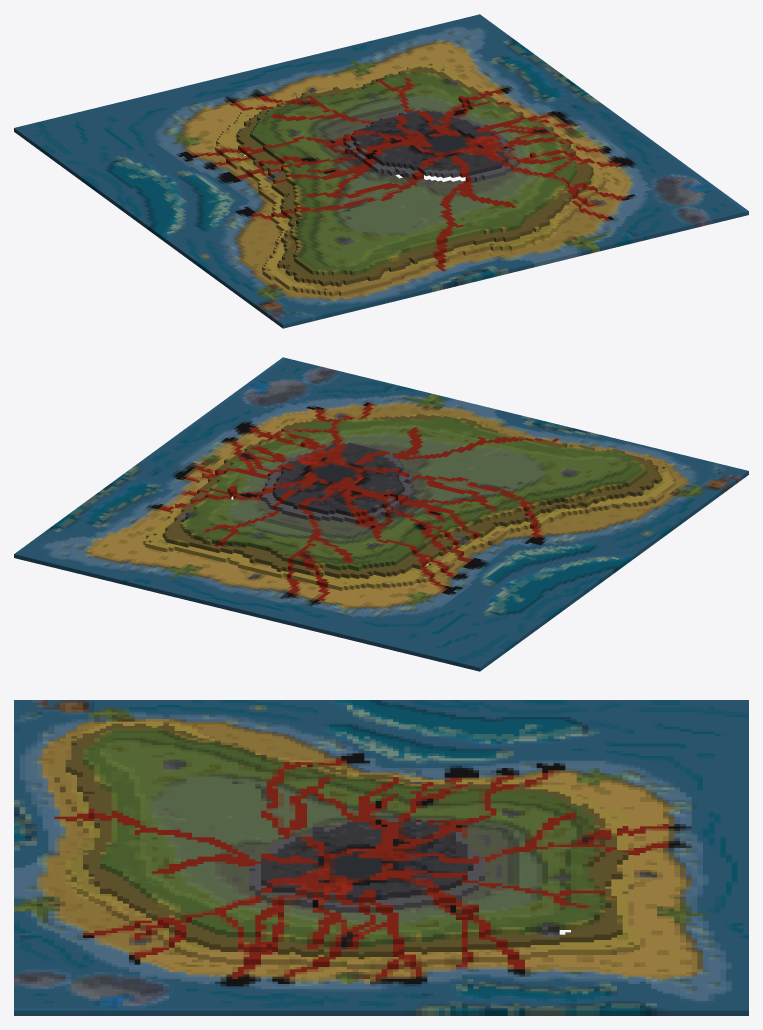
The model's file is landscape.fbx.
3 renders of one model, top to bottom at view 1: azimuth 30°, elevation 25°; view 2: azimuth 150°, elevation 25°; view 3: azimuth 270°, elevation 25°, orthographic. The views are drawn at different scales.
Visible parts, largest first — view 1: Matrix; view 2: Matrix; view 3: Matrix.
Part boxes in pixels (left/top/right/bottom): Matrix: left=14, top=14, right=748, bottom=328; Matrix: left=14, top=357, right=748, bottom=671; Matrix: left=14, top=700, right=748, bottom=1015.
Size of the model in its own units: 128 by 6 by 128.
